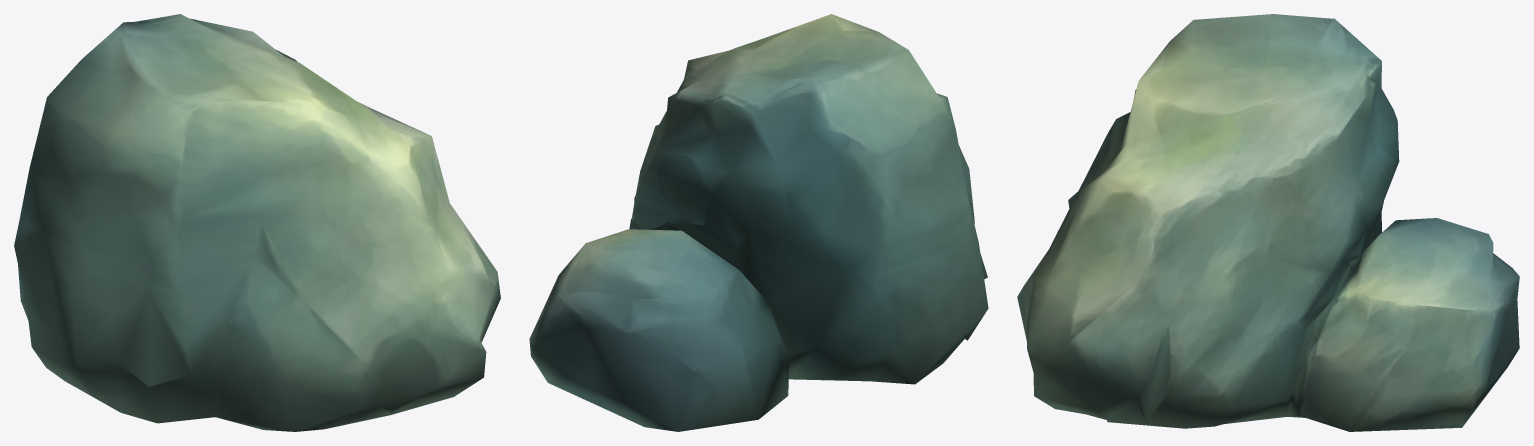
The model's file is model_raw.glb.
3 renders of one model, left to right at view 1: azimuth 30°, elevation 25°; view 2: azimuth 150°, elevation 25°; view 3: azimuth 270°, elevation 25°, orthographic. The views are drawn at different scales.
Visible parts, largest first — view 1: tripo_node_21d57fd4-1727-48c5-b658-a58412a9dc11; view 2: tripo_node_21d57fd4-1727-48c5-b658-a58412a9dc11; view 3: tripo_node_21d57fd4-1727-48c5-b658-a58412a9dc11.
Boxes of the visible parts, x1,y1,x2,y2 form: tripo_node_21d57fd4-1727-48c5-b658-a58412a9dc11: (14, 14, 500, 431); tripo_node_21d57fd4-1727-48c5-b658-a58412a9dc11: (529, 14, 988, 431); tripo_node_21d57fd4-1727-48c5-b658-a58412a9dc11: (1017, 14, 1519, 431).
Bounding box in the file's own units: 0.8305 × 0.6889 × 1.
1 material, 1 textured.
